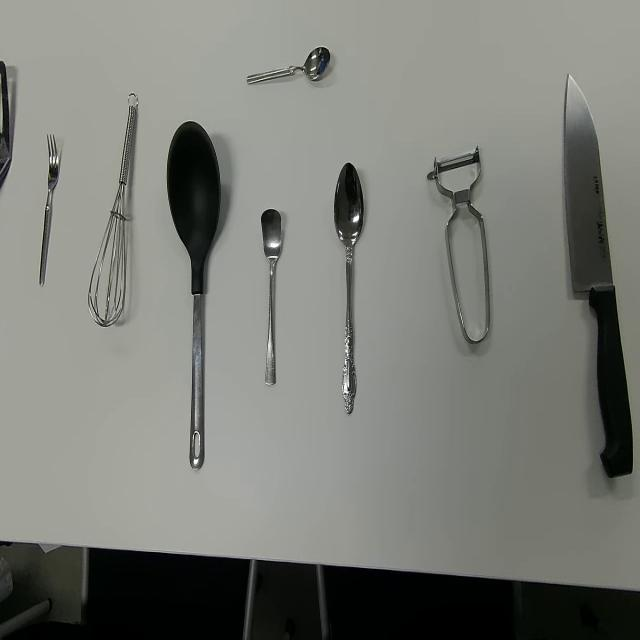Desert-Spoon: (333, 161, 364, 416)
Dinner-Fork: (39, 132, 60, 288)
Kitchen-Knife: (562, 71, 634, 479)
Peeler: (426, 144, 490, 345)
Serving-Spoon: (166, 120, 222, 473), (0, 58, 11, 195)
Tea-Spoon: (260, 207, 282, 386), (246, 45, 331, 87)
Whisk: (87, 92, 139, 328)
